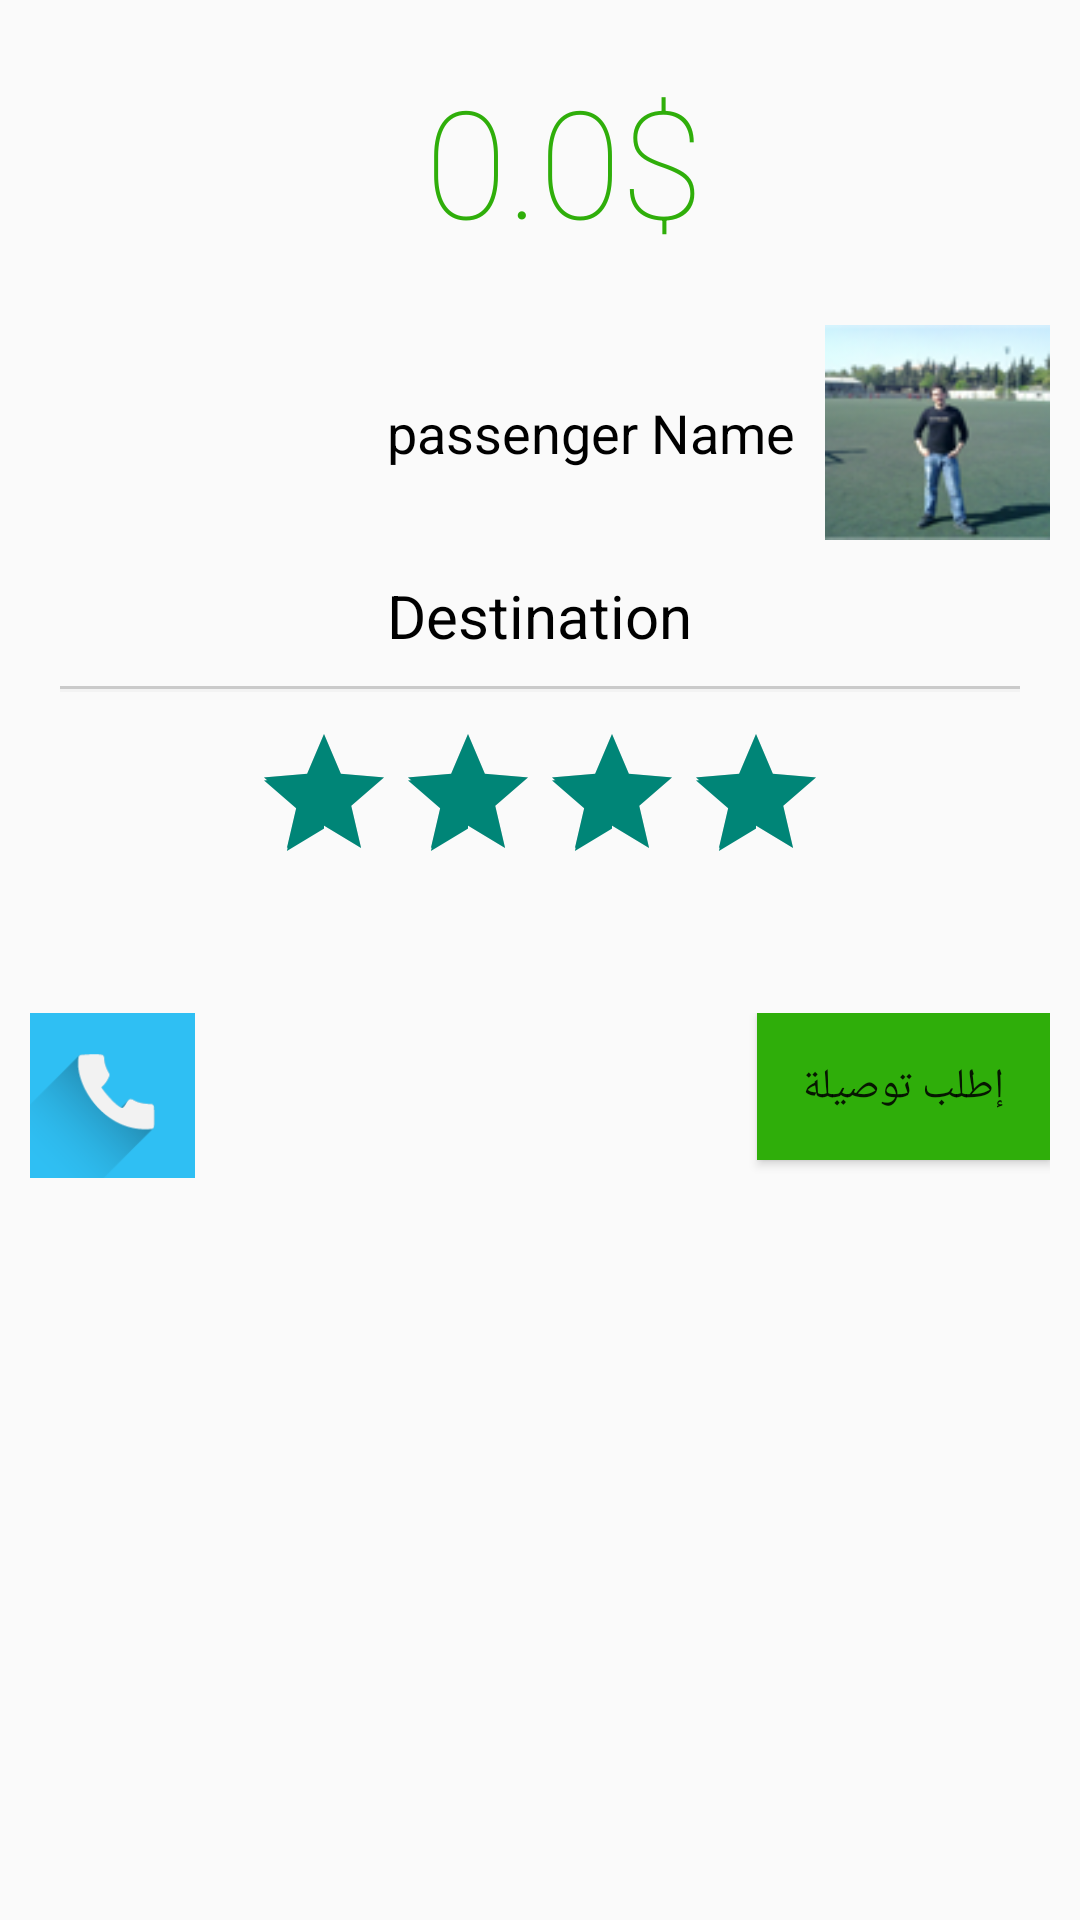

Icon bounding boxes for this 1080x1920 phone screenshot, format bbox(x1, y1, x2, y2):
phone: bbox(30, 1013, 195, 1178)
